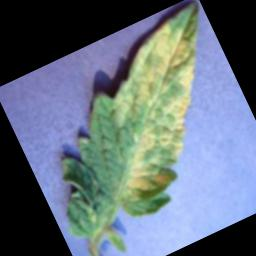Leaf_Mold: (42, 5, 256, 228)
